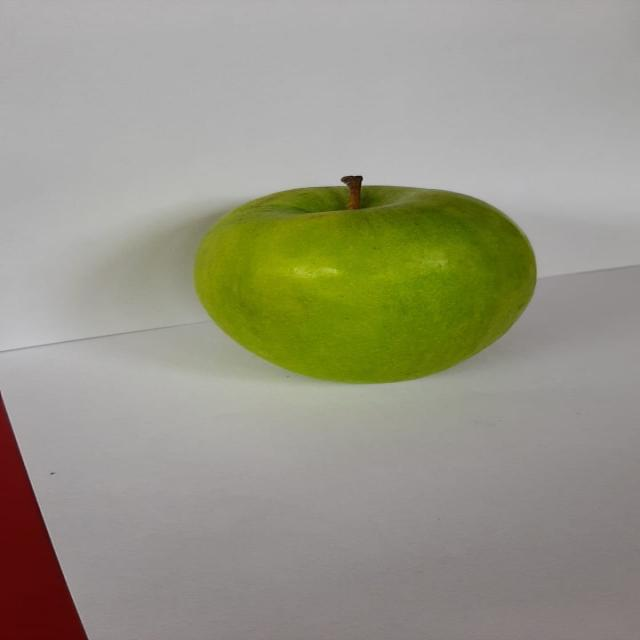50-_ripeness: (168, 167, 549, 395)
